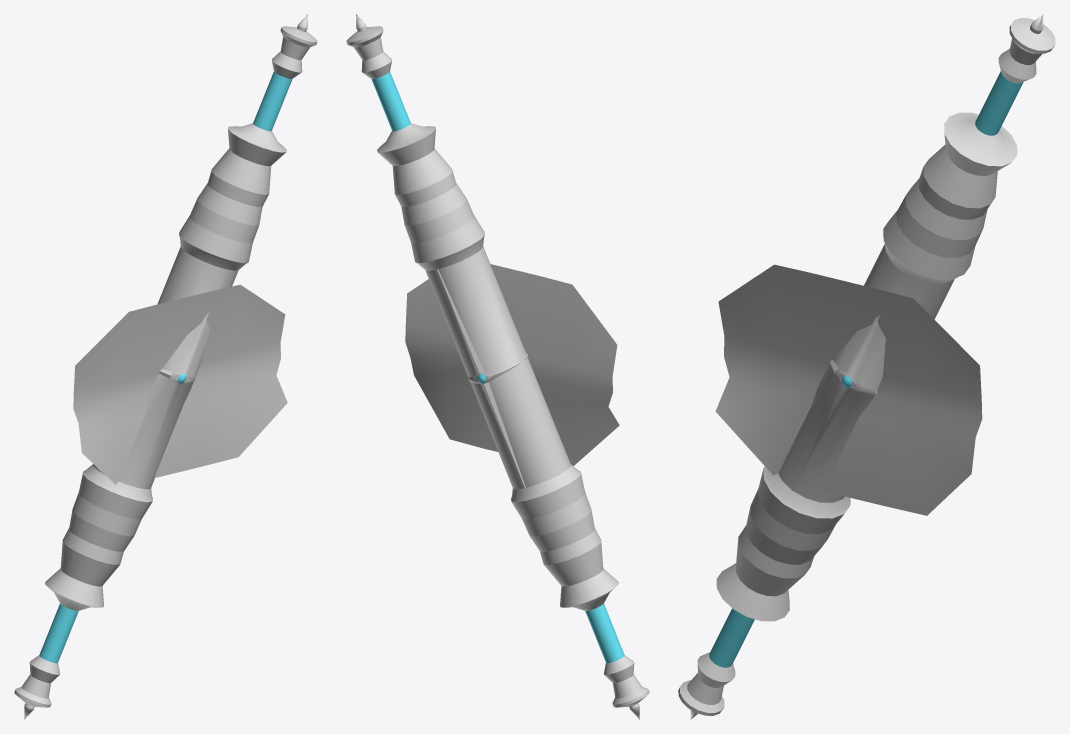
The model's file is Mod_BackPlate_Brains3.fbx.
The picture shows the model from 3 angles, left to right: view 1: azimuth 30°, elevation 25°; view 2: azimuth 150°, elevation 25°; view 3: azimuth 330°, elevation 25°; orthographic projection. The views are drawn at different scales.
Parts seen in each view (by area): view 1: Mod_BackPlate_Brains3; view 2: Mod_BackPlate_Brains3; view 3: Mod_BackPlate_Brains3.
Boxes of the visible parts, x1,y1,x2,y2 form: Mod_BackPlate_Brains3: (14,14,317,719); Mod_BackPlate_Brains3: (346,14,649,719); Mod_BackPlate_Brains3: (678,14,1055,719).
Size of the model in its own units: 463 by 944 by 103.
